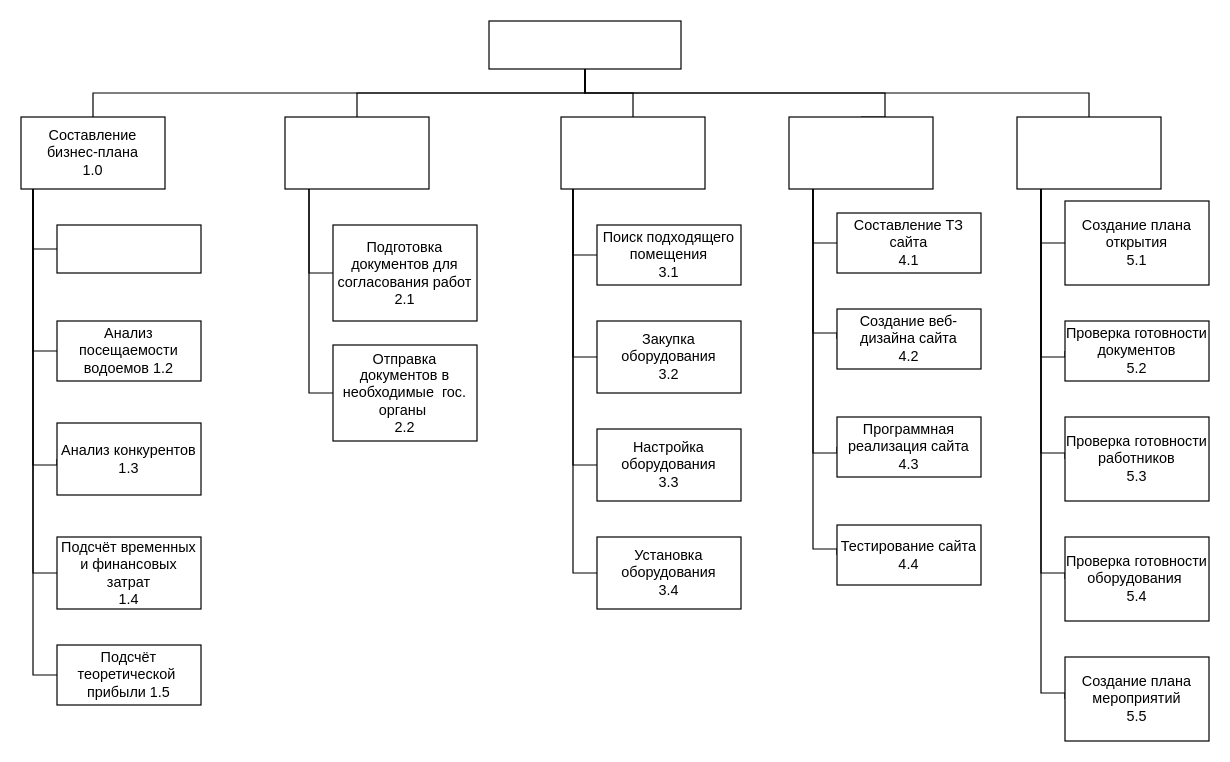
The diagram is 1230 pixels wide and 762 high, and some of its shapes have lost their labels. Here are the shapes that lost their labels. From the top down, the centre of each, then its label:
(x=584, y=44): Открытие ночного клуба
(x=356, y=152): Получение необходимых разрешений 2.0
(x=632, y=152): Подготовка помещения 3.0
(x=860, y=152): Разработка сайта 4.0
(x=1088, y=152): Открытие проекта 5.0
(x=128, y=248): Анализ загрязнений 1.1
